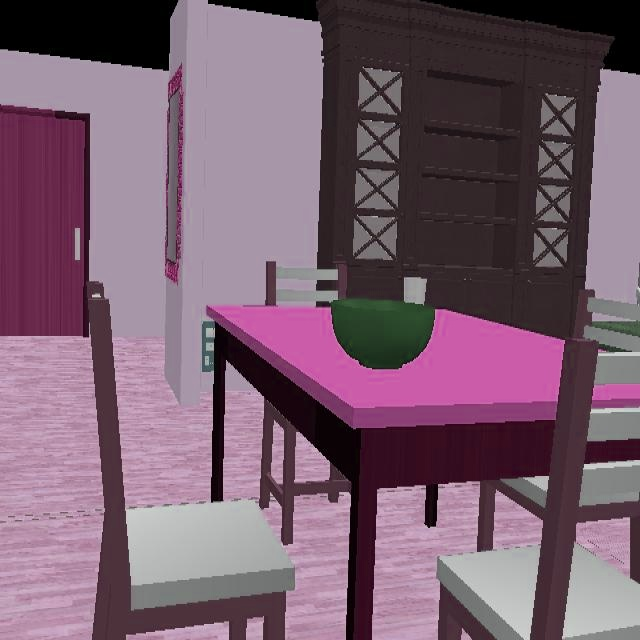bookshelf: (318, 0, 611, 338)
chair: (89, 298, 295, 639), (436, 340, 640, 638)
table: (208, 307, 564, 638)
